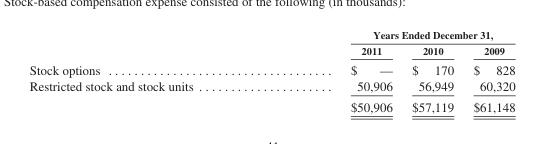table: (28, 28, 514, 113)
table column: (28, 28, 271, 113), (271, 28, 401, 113), (401, 28, 462, 113), (462, 28, 514, 113)
table column header: (28, 28, 514, 59)
table row: (28, 59, 514, 77), (28, 77, 514, 95), (28, 95, 514, 113), (28, 42, 514, 59), (28, 28, 514, 42)
table spanning cell: (271, 28, 514, 42)
